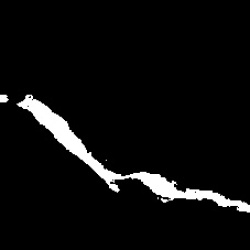crack: (18, 95, 248, 213), (1, 94, 8, 103)
